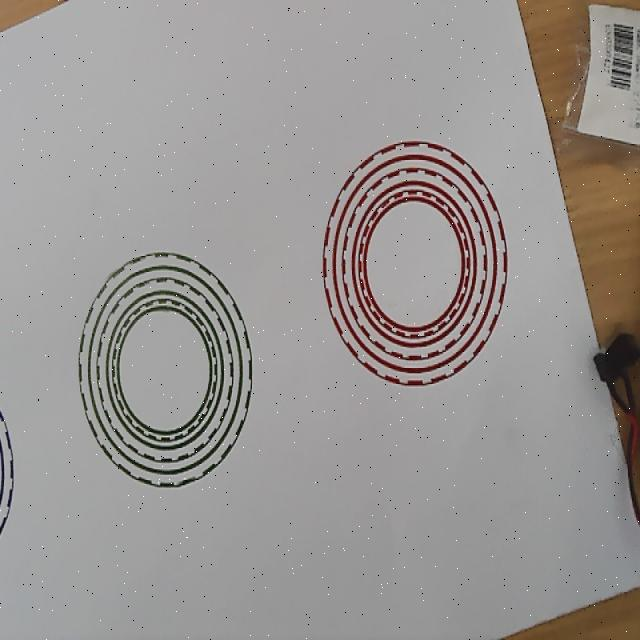g: (77, 251, 252, 489)
red-green-blue: (323, 141, 507, 387)
